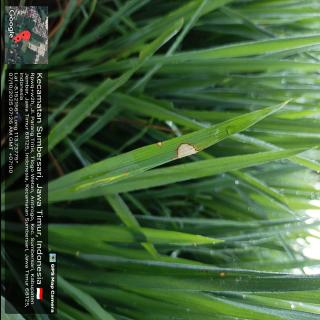Blast: (168, 140, 202, 161), (153, 142, 163, 148)
